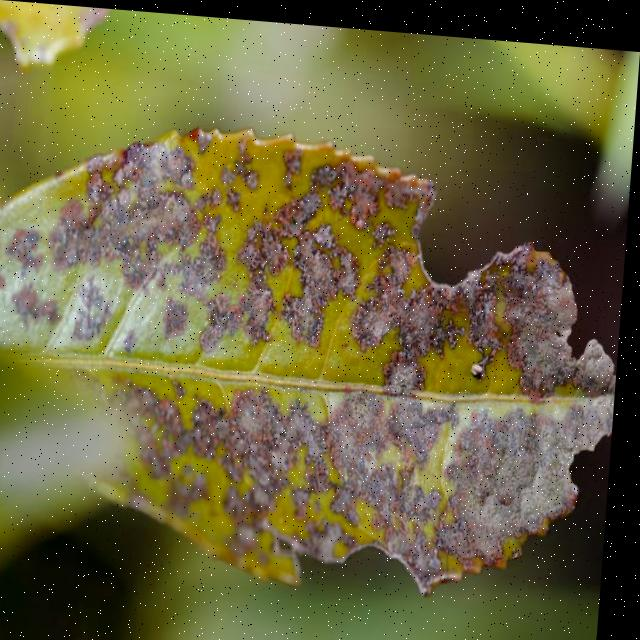Tea red rust: (0, 117, 621, 537)
